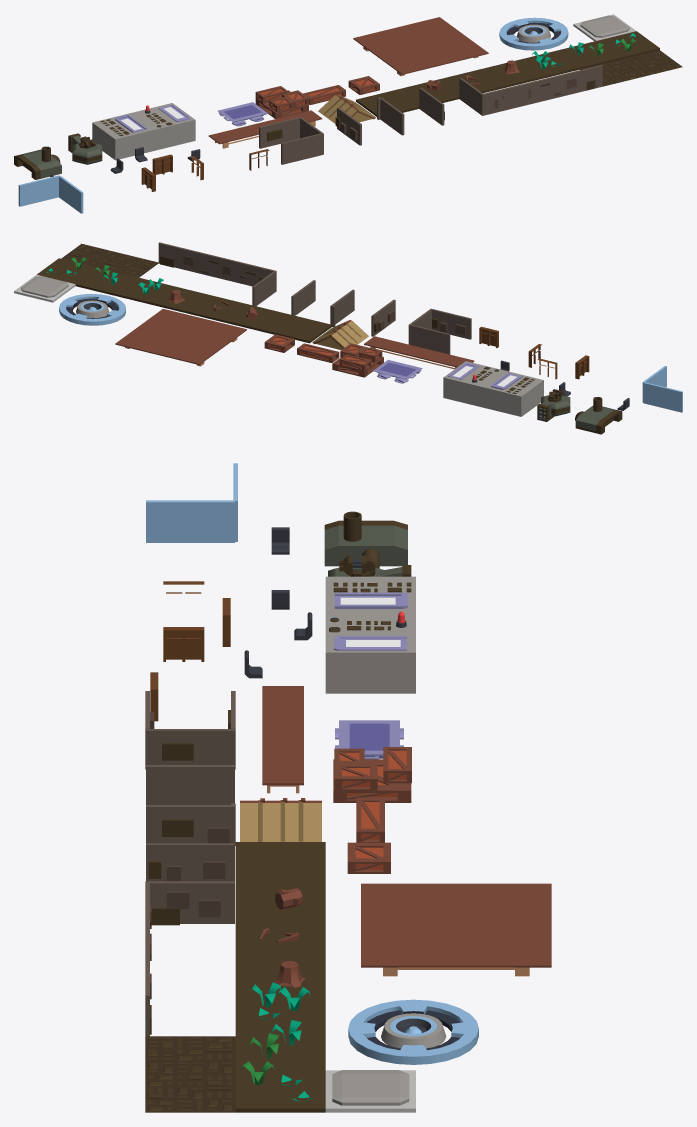
File: tileset.glb
The picture shows the model from 3 angles, top to bottom: view 1: azimuth 30°, elevation 25°; view 2: azimuth 150°, elevation 25°; view 3: azimuth 270°, elevation 25°; orthographic projection. The views are drawn at different scales.
Parts seen in each view (by area): view 1: mergedBlocks(Clone); view 2: mergedBlocks(Clone); view 3: mergedBlocks(Clone).
Boxes of the visible parts, <box> form: mergedBlocks(Clone): <box>14,14,682,213</box>; mergedBlocks(Clone): <box>14,242,682,434</box>; mergedBlocks(Clone): <box>145,463,551,1112</box>.
Bounding box in the file's own units: 31.94 × 1.58 × 9.01.
1 material, 1 textured.
